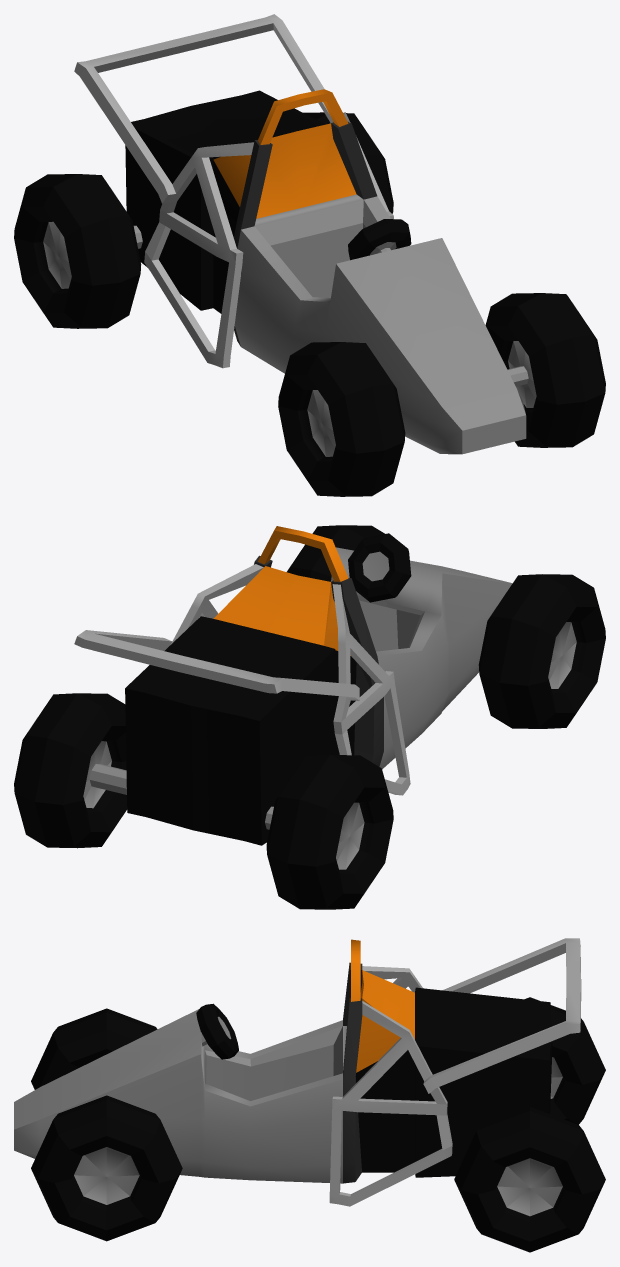
Rendered from formulaCar_model1.fbx.
3 renders of one model, top to bottom at view 1: azimuth 30°, elevation 25°; view 2: azimuth 150°, elevation 25°; view 3: azimuth 270°, elevation 25°, orthographic. The views are drawn at different scales.
Parts seen in each view (by area): view 1: SM_CartBody, SM_TireFR, SM_TireBR, SM_TireFL, SM_Wheel, SM_TireBL; view 2: SM_CartBody, SM_TireBR, SM_TireFR, SM_TireBL, SM_Wheel, SM_TireFL, SM_BarBack; view 3: SM_CartBody, SM_TireBL, SM_TireFL, SM_TireFR, SM_TireBR, SM_Wheel.
Part boxes in pixels (x1,y1,x2,y2): SM_CartBody: (74, 14, 526, 454); SM_TireFR: (278, 342, 405, 496); SM_TireBR: (14, 174, 141, 328); SM_TireFL: (485, 293, 605, 447); SM_Wheel: (348, 219, 411, 260); SM_TireBL: (303, 112, 393, 213); SM_CartBody: (74, 526, 512, 845); SM_TireBR: (266, 755, 393, 909); SM_TireFR: (478, 574, 605, 728); SM_TireBL: (14, 693, 127, 848); SM_Wheel: (348, 533, 411, 602); SM_TireFL: (287, 525, 384, 581); SM_BarBack: (89, 764, 273, 829); SM_CartBody: (14, 938, 581, 1206); SM_TireBL: (454, 1106, 605, 1252); SM_TireFL: (31, 1095, 182, 1241); SM_TireFR: (31, 1008, 157, 1089); SM_TireBR: (525, 997, 605, 1124); SM_Wheel: (196, 1003, 238, 1059).
Bounding box in the file's own units: 5.46 × 4.45 × 9.81.
